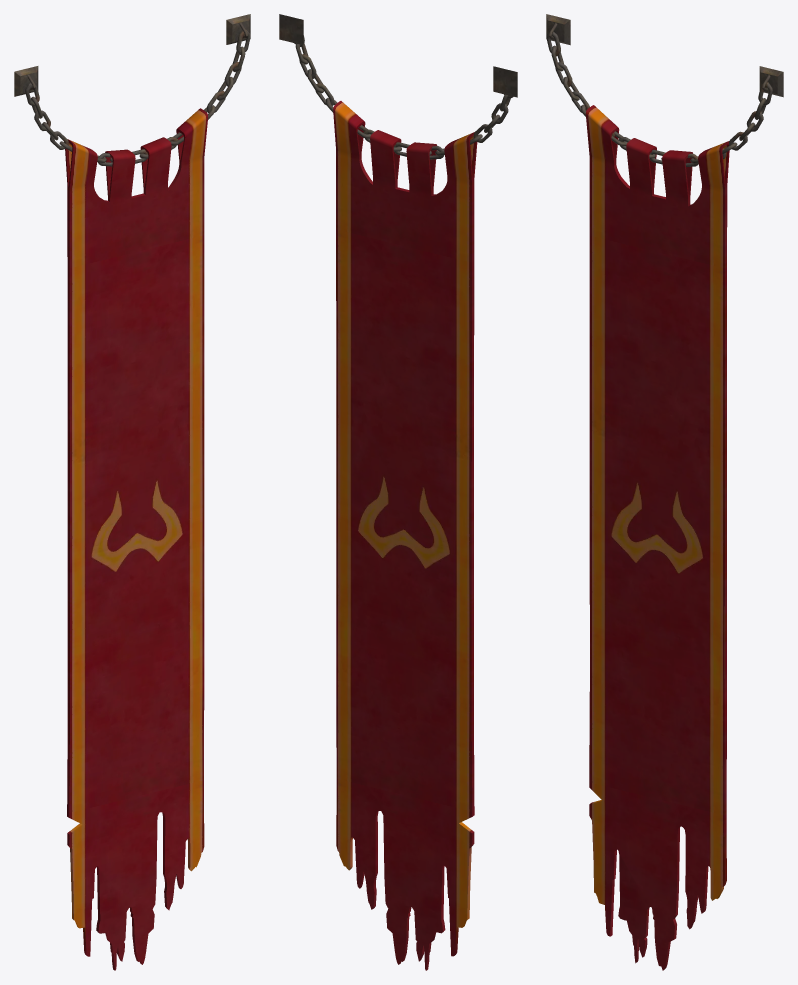
3 renders of one model, left to right at view 1: azimuth 30°, elevation 25°; view 2: azimuth 150°, elevation 25°; view 3: azimuth 330°, elevation 25°, orthographic.
Parts seen in each view (by area): view 1: SM_Zamorak_Banner_03_v1_LOD0; view 2: SM_Zamorak_Banner_03_v1_LOD0; view 3: SM_Zamorak_Banner_03_v1_LOD0.
Boxes of the visible parts, x1=… form: SM_Zamorak_Banner_03_v1_LOD0: x1=14, y1=14, x2=250, y2=970; SM_Zamorak_Banner_03_v1_LOD0: x1=279, y1=14, x2=517, y2=970; SM_Zamorak_Banner_03_v1_LOD0: x1=546, y1=14, x2=783, y2=970.
Size of the model in its own units: 2.18 by 8.1 by 0.1607.
2 materials, 2 textured.
